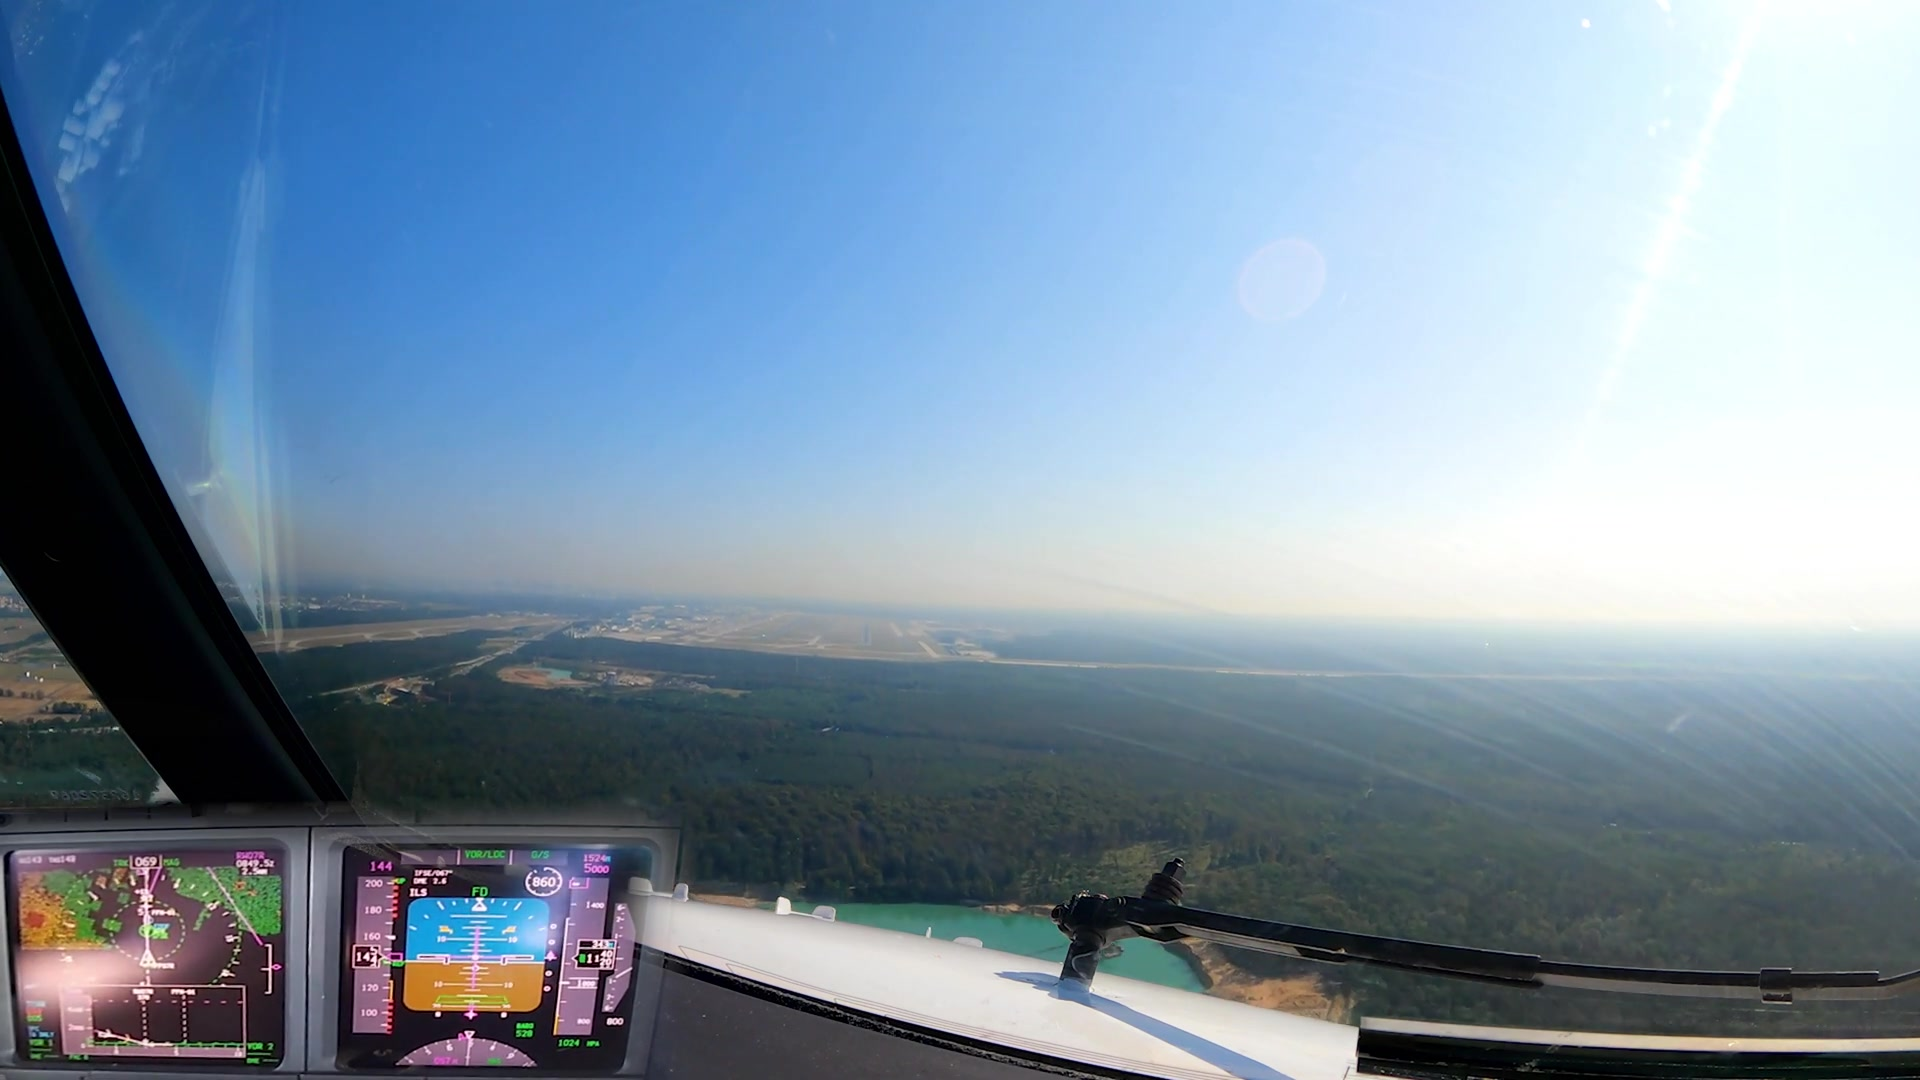runway: (861, 618, 872, 649)
